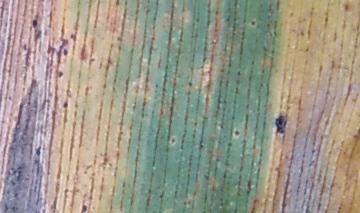tarspot: (275, 113, 288, 136), (168, 136, 177, 144), (31, 18, 38, 28), (36, 146, 42, 157), (21, 43, 29, 51), (57, 71, 65, 78), (62, 99, 68, 108), (81, 204, 87, 213), (63, 47, 68, 56), (68, 33, 75, 39), (233, 130, 240, 136), (250, 19, 256, 26), (7, 94, 13, 101)
